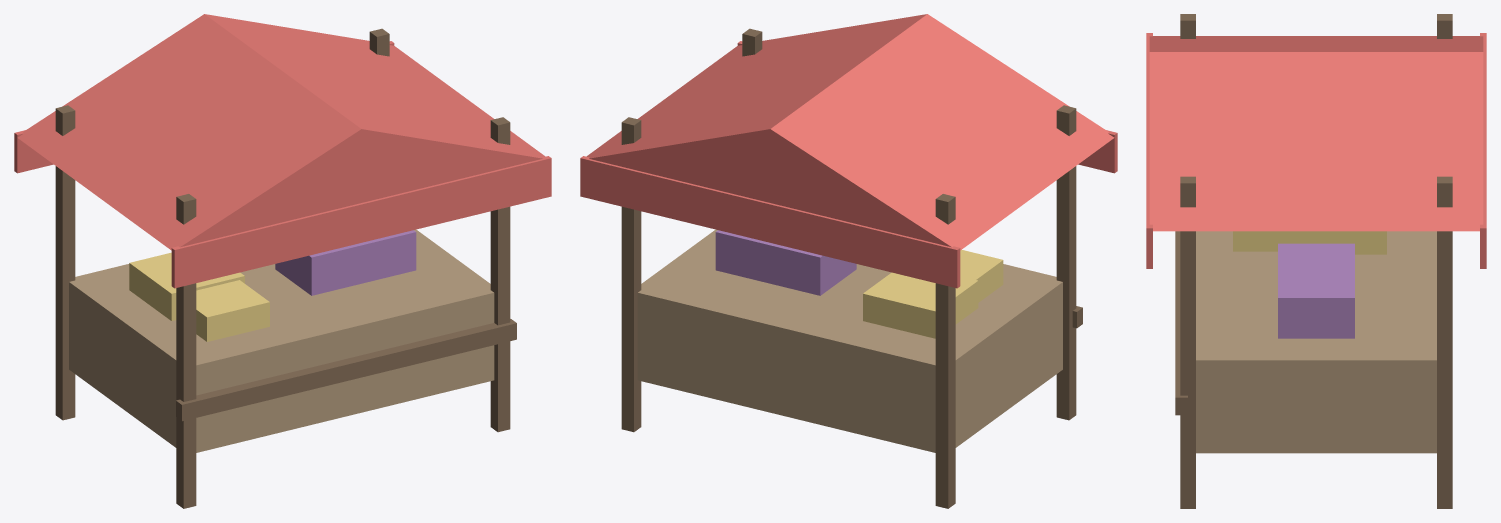
Rendered from market_stall_red_white.glb.
3 renders of one model, left to right at view 1: azimuth 30°, elevation 25°; view 2: azimuth 150°, elevation 25°; view 3: azimuth 270°, elevation 25°, orthographic. The views are drawn at different scales.
Visible parts, largest first — view 1: MarketStall_red_white; view 2: MarketStall_red_white; view 3: MarketStall_red_white.
Part boxes in pixels (bbox=[...]): MarketStall_red_white: bbox=[14, 14, 551, 508]; MarketStall_red_white: bbox=[580, 14, 1117, 508]; MarketStall_red_white: bbox=[1146, 14, 1486, 508].
Size of the model in its own units: 3.6 by 3.2 by 2.65.
